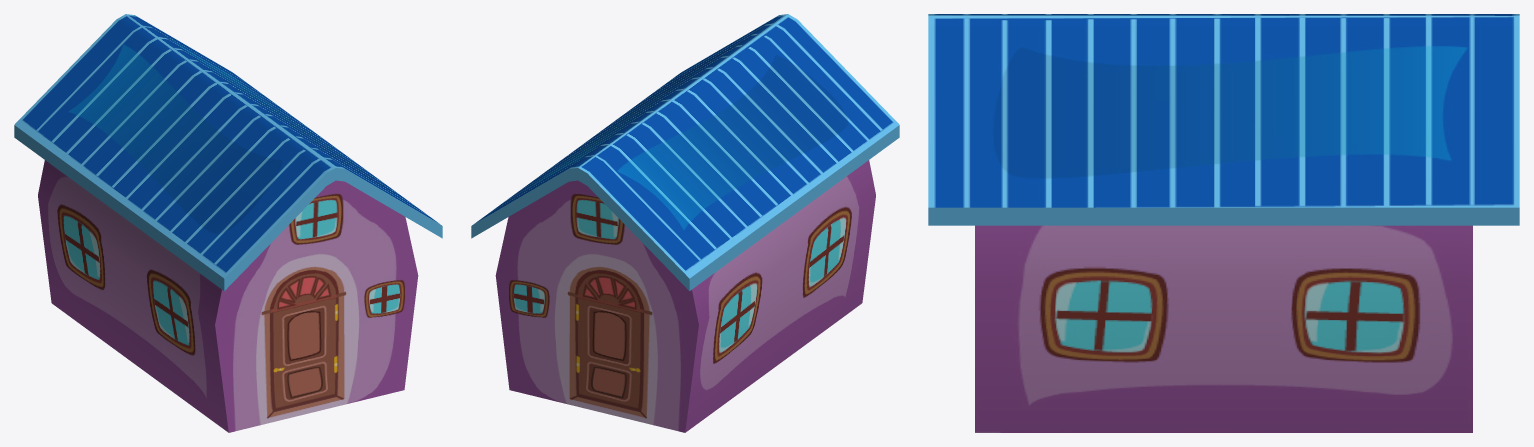
3 renders of one model, left to right at view 1: azimuth 30°, elevation 25°; view 2: azimuth 150°, elevation 25°; view 3: azimuth 270°, elevation 25°, orthographic. The views are drawn at different scales.
Visible parts, largest first — view 1: final:admin_20170511_1627:polySurface26; view 2: final:admin_20170511_1627:polySurface26; view 3: final:admin_20170511_1627:polySurface26.
Part boxes in pixels (left/top/right/bottom): final:admin_20170511_1627:polySurface26: left=14, top=14, right=442, bottom=432; final:admin_20170511_1627:polySurface26: left=471, top=14, right=899, bottom=432; final:admin_20170511_1627:polySurface26: left=928, top=14, right=1519, bottom=432.
Size of the model in its own units: 1114 by 1243 by 1857.
